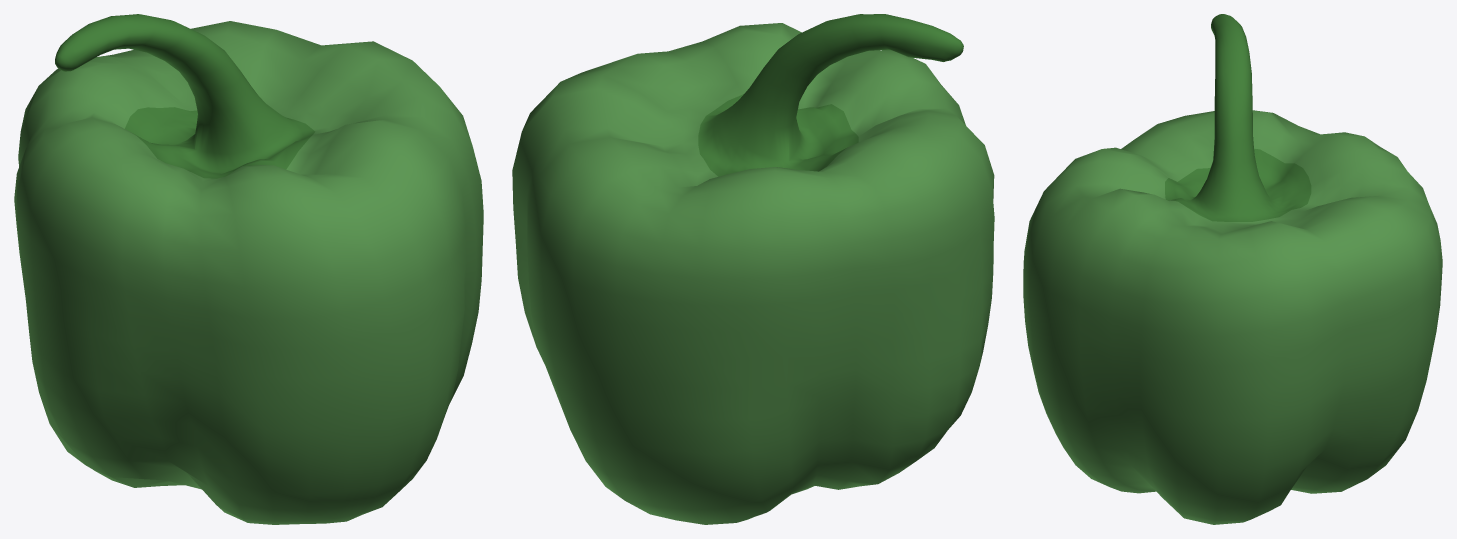
Rendered from peppers.fbx.
The picture shows the model from 3 angles, left to right: view 1: azimuth 30°, elevation 25°; view 2: azimuth 150°, elevation 25°; view 3: azimuth 270°, elevation 25°; orthographic projection. The views are drawn at different scales.
Parts seen in each view (by area): view 1: Pepper; view 2: Pepper; view 3: Pepper.
Part boxes in pixels (<box>): Pepper: <box>14,14,483,524</box>; Pepper: <box>512,14,994,524</box>; Pepper: <box>1023,14,1442,524</box>.
Bounding box in the file's own units: 40.86 × 44.88 × 42.79.
